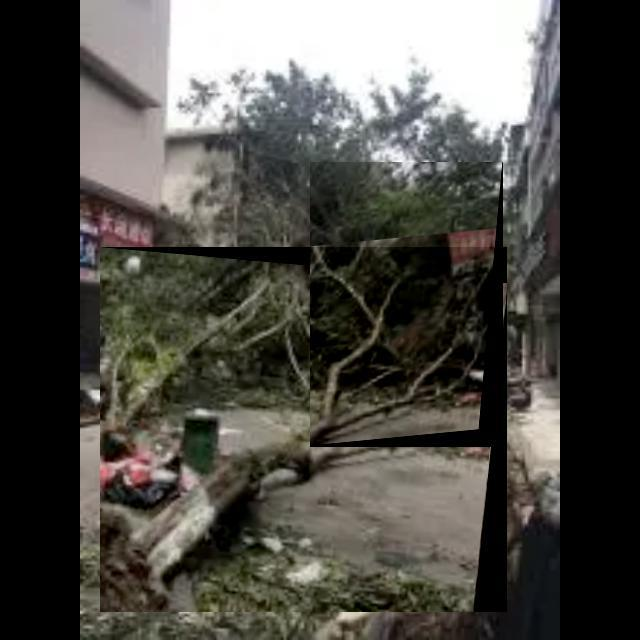fallen_tree: (100, 247, 508, 613), (310, 162, 504, 448)
